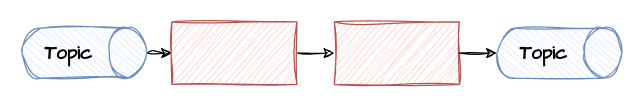
Some shapes in this 644 by 106 pixel diagram are drawn without their labels. The centre of each missing label's shape, as x and y in pixels:
"Sink Processor" belongs at pixel 396 52.
"Source Processor" belongs at pixel 234 52.
